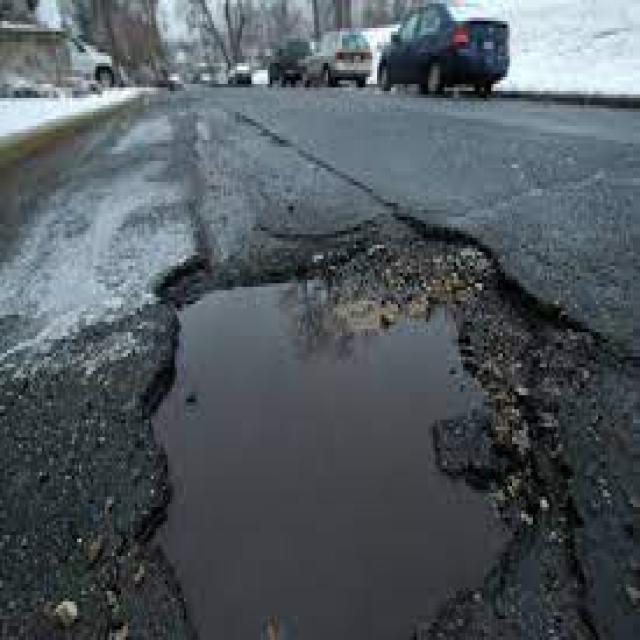Pothole: (151, 248, 561, 640)
